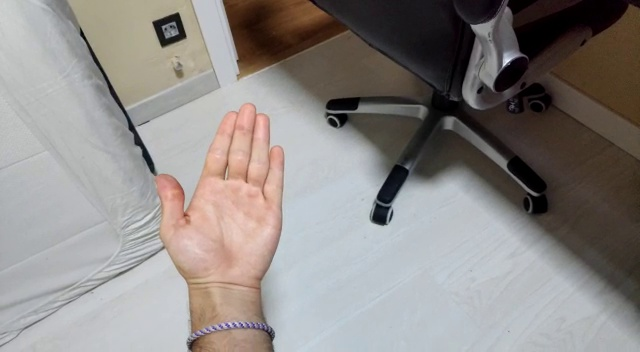Palm: (152, 99, 294, 290)
